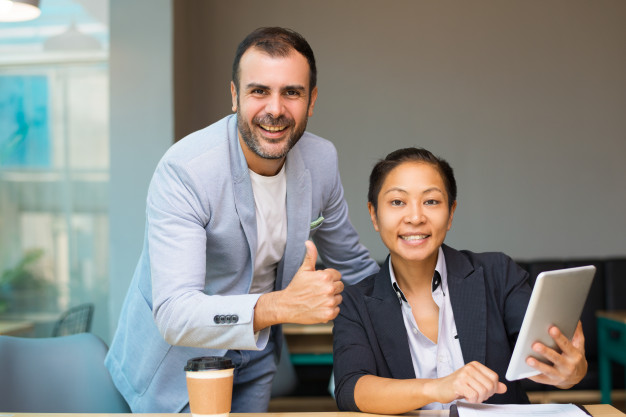thumbsup: (299, 240, 344, 325)
